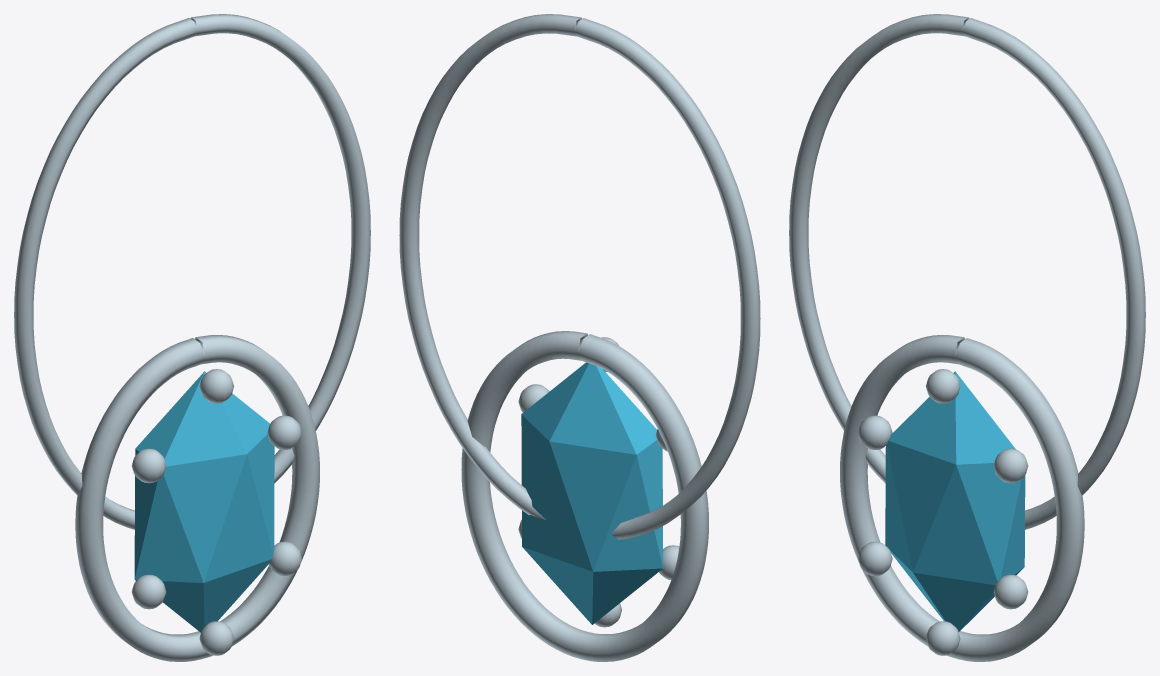
File: relic-3-refined-v15.fbx
3 views of the same model, side by side, from view 1: azimuth 30°, elevation 25°; view 2: azimuth 150°, elevation 25°; view 3: azimuth 330°, elevation 25° (orthographic).
Parts seen in each view (by area): view 1: PendantGem.001, PendantChain.001, PendantFrame.001, SettingClaw.006, SettingClaw.009, SettingClaw.011, SettingClaw.010, SettingClaw.007, SettingClaw.008; view 2: PendantGem.001, PendantChain.001, PendantFrame.001; view 3: PendantGem.001, PendantChain.001, PendantFrame.001, SettingClaw.006, SettingClaw.007, SettingClaw.009, SettingClaw.008, SettingClaw.010, SettingClaw.011.
Boxes of the visible parts, x1,y1,x2,y2 form: PendantGem.001: (134, 371, 274, 632); PendantChain.001: (14, 14, 370, 529); PendantFrame.001: (75, 335, 319, 661); SettingClaw.006: (199, 369, 234, 403); SettingClaw.009: (199, 621, 233, 655); SettingClaw.011: (131, 448, 166, 483); SettingClaw.010: (131, 574, 166, 609); SettingClaw.007: (267, 415, 301, 449); SettingClaw.008: (269, 541, 301, 576); PendantGem.001: (521, 362, 663, 624); PendantChain.001: (399, 14, 760, 539); PendantFrame.001: (461, 331, 708, 661); PendantGem.001: (885, 371, 1025, 631); PendantChain.001: (789, 14, 1145, 529); PendantFrame.001: (840, 335, 1084, 661); SettingClaw.006: (925, 369, 960, 403); SettingClaw.007: (993, 448, 1028, 483); SettingClaw.009: (926, 621, 960, 655); SettingClaw.008: (993, 574, 1028, 609); SettingClaw.010: (858, 541, 892, 576); SettingClaw.011: (858, 415, 892, 449).
Size of the model in its own units: 58.42 by 101 by 11.95.
